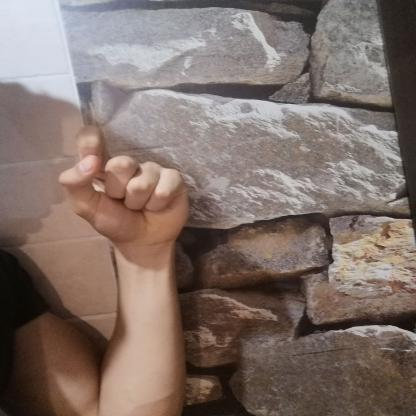FAA: (50, 115, 198, 253)
